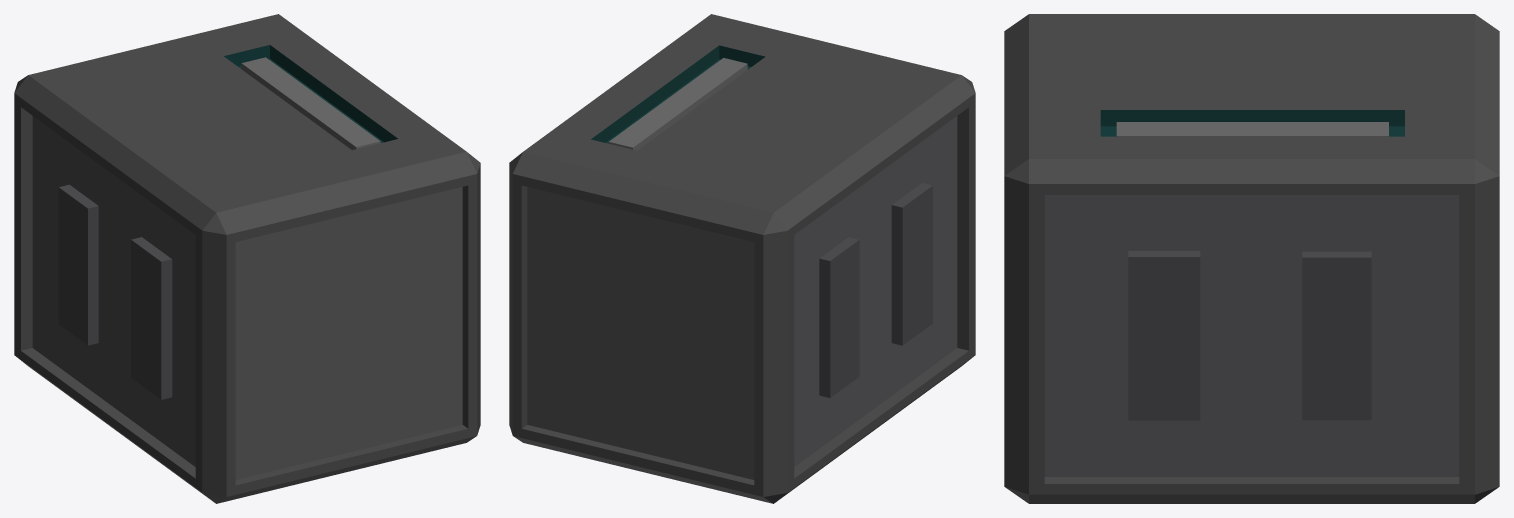
The model's file is obj_crate1_fbx.fbx.
The picture shows the model from 3 angles, left to right: view 1: azimuth 30°, elevation 25°; view 2: azimuth 150°, elevation 25°; view 3: azimuth 270°, elevation 25°; orthographic projection. The views are drawn at different scales.
Visible parts, largest first — view 1: pCube12; view 2: pCube12; view 3: pCube12.
Part boxes in pixels (box(x1,y1,x2,y2)): pCube12: box(14, 14, 480, 503); pCube12: box(509, 14, 975, 503); pCube12: box(1004, 14, 1499, 503).
Bounding box in the file's own units: 95.62 × 95.62 × 124.
